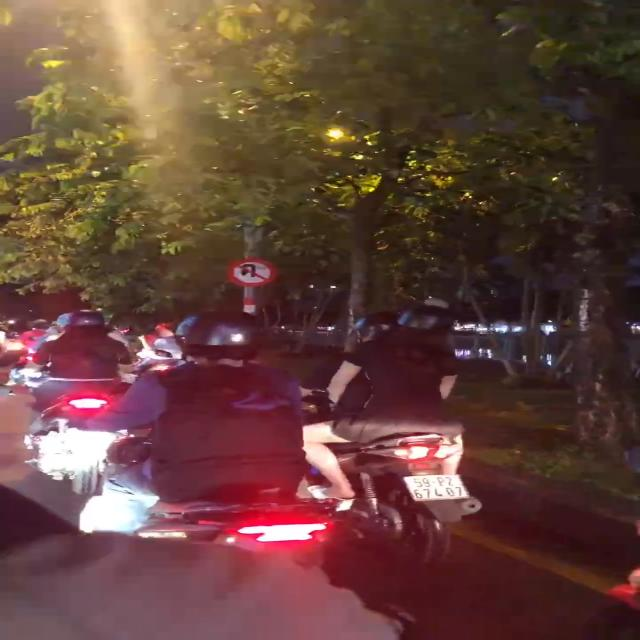Bien bao cam quay dau xe: (229, 256, 279, 286)
